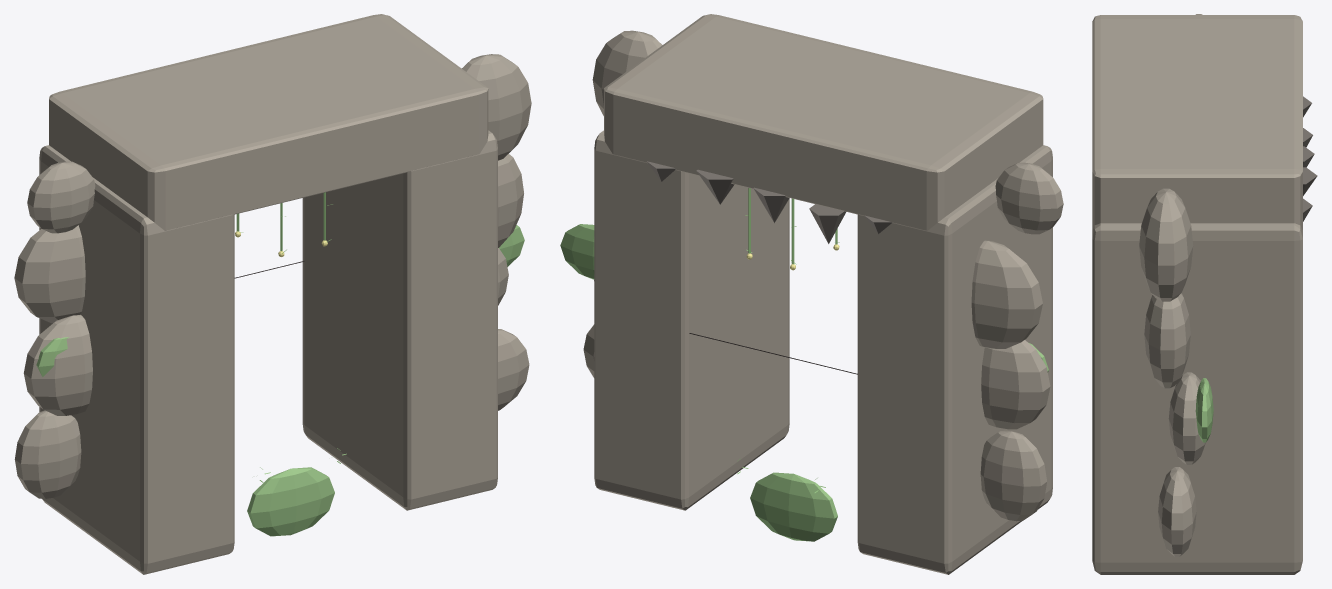
Rendered from cave_entrance.glb.
The picture shows the model from 3 angles, left to right: view 1: azimuth 30°, elevation 25°; view 2: azimuth 150°, elevation 25°; view 3: azimuth 270°, elevation 25°; orthographic projection.
Visible parts, largest first — view 1: cave_entrance; view 2: cave_entrance; view 3: cave_entrance.
Boxes of the visible parts, x1,y1,x2,y2 form: cave_entrance: [14, 14, 531, 574]; cave_entrance: [560, 14, 1063, 574]; cave_entrance: [1092, 14, 1317, 574].
Size of the model in its own units: 3.2 by 2.8 by 1.28.
